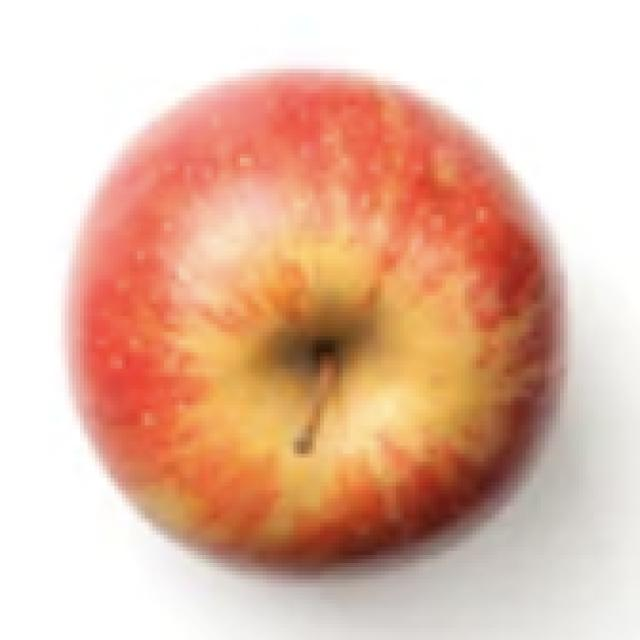apple: (69, 73, 563, 567)
